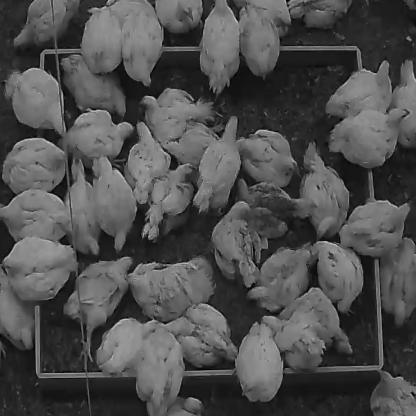chicken: (64, 255, 137, 372), (263, 286, 355, 372), (125, 258, 216, 323), (0, 236, 81, 301), (328, 107, 413, 168), (299, 144, 352, 241), (191, 113, 242, 210), (232, 179, 315, 237), (165, 305, 241, 368), (209, 201, 263, 288), (134, 324, 185, 415), (143, 162, 200, 242), (249, 246, 320, 310), (0, 187, 73, 249), (92, 155, 138, 252), (337, 200, 412, 259), (61, 109, 134, 169), (62, 157, 105, 257), (60, 54, 127, 118), (4, 68, 67, 136), (94, 317, 163, 377), (199, 0, 243, 94), (139, 89, 217, 142), (326, 60, 393, 121), (0, 137, 67, 197), (314, 241, 366, 318), (235, 322, 284, 403), (0, 261, 43, 351), (238, 129, 299, 188), (12, 0, 83, 50), (128, 122, 171, 204), (121, 12, 164, 88), (381, 236, 415, 330), (241, 0, 280, 79), (157, 124, 226, 167), (81, 7, 122, 78), (390, 58, 415, 150), (369, 367, 415, 415), (235, 0, 292, 36), (282, 0, 354, 27), (153, 0, 204, 35), (107, 0, 159, 19), (160, 397, 208, 415)
